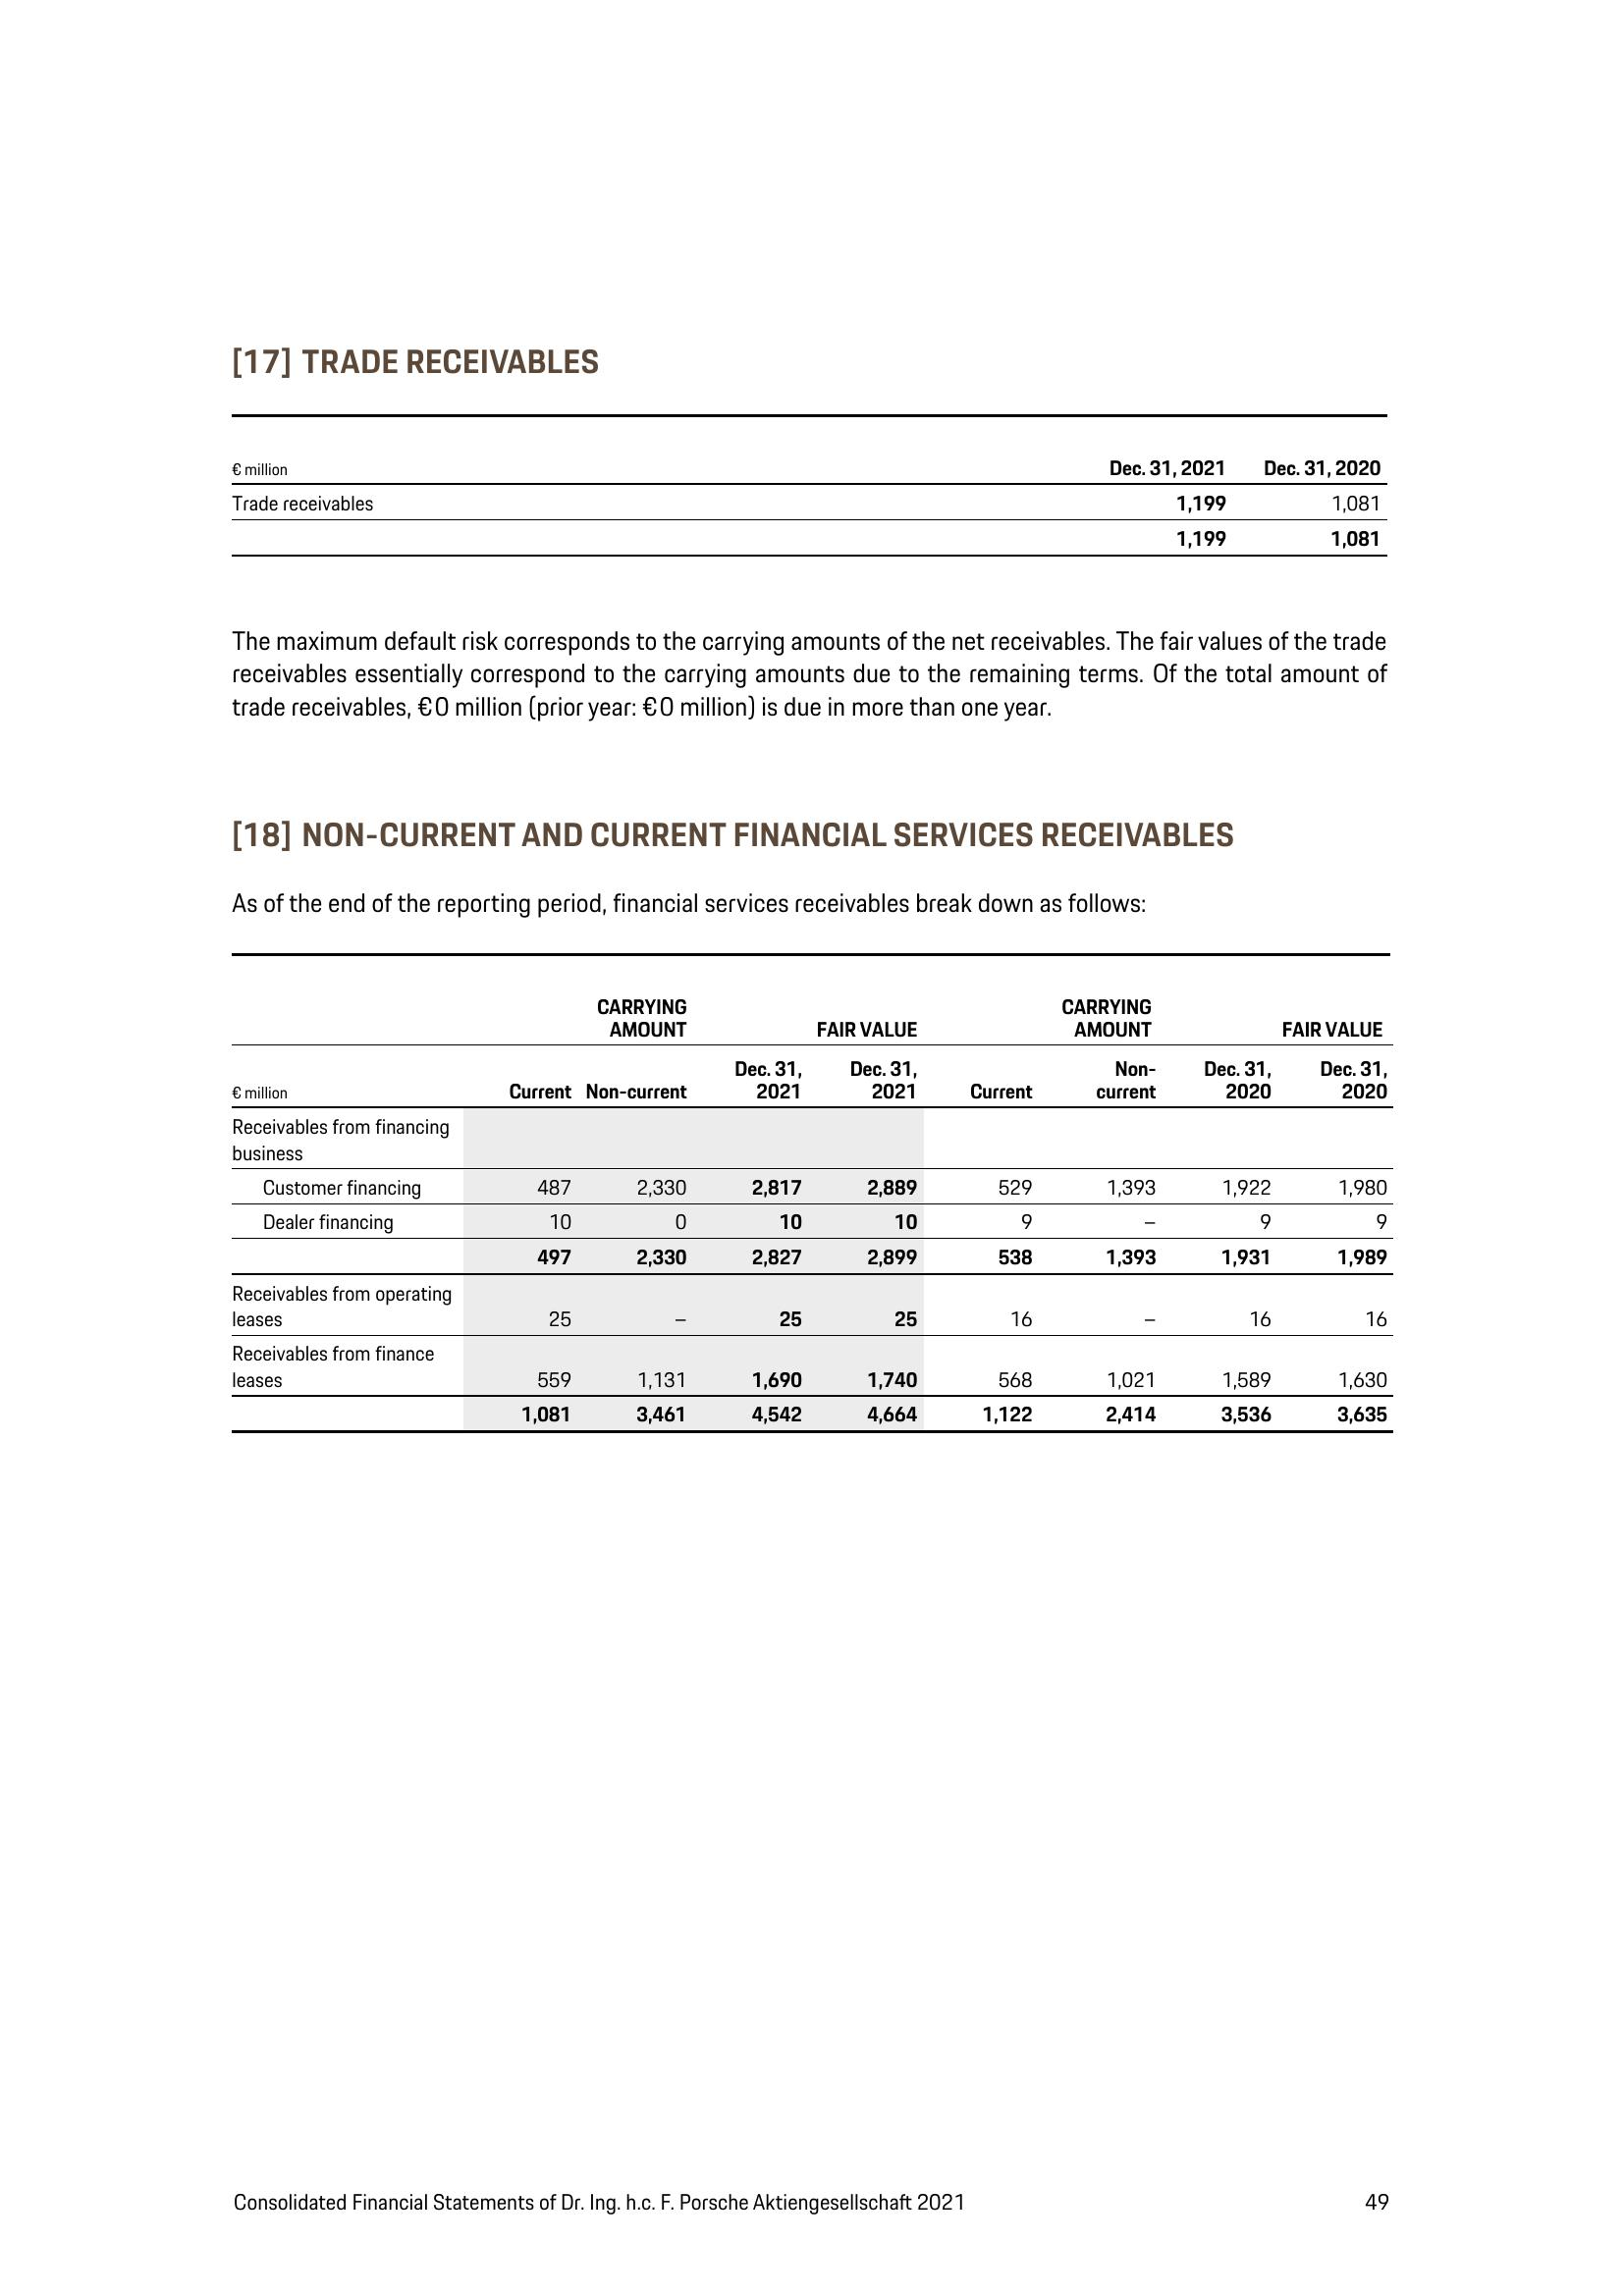Footer: (0, 2134, 1624, 2296)
Header: (0, 0, 1624, 206)
Table: (195, 954, 1417, 1446), (149, 393, 1438, 578)
